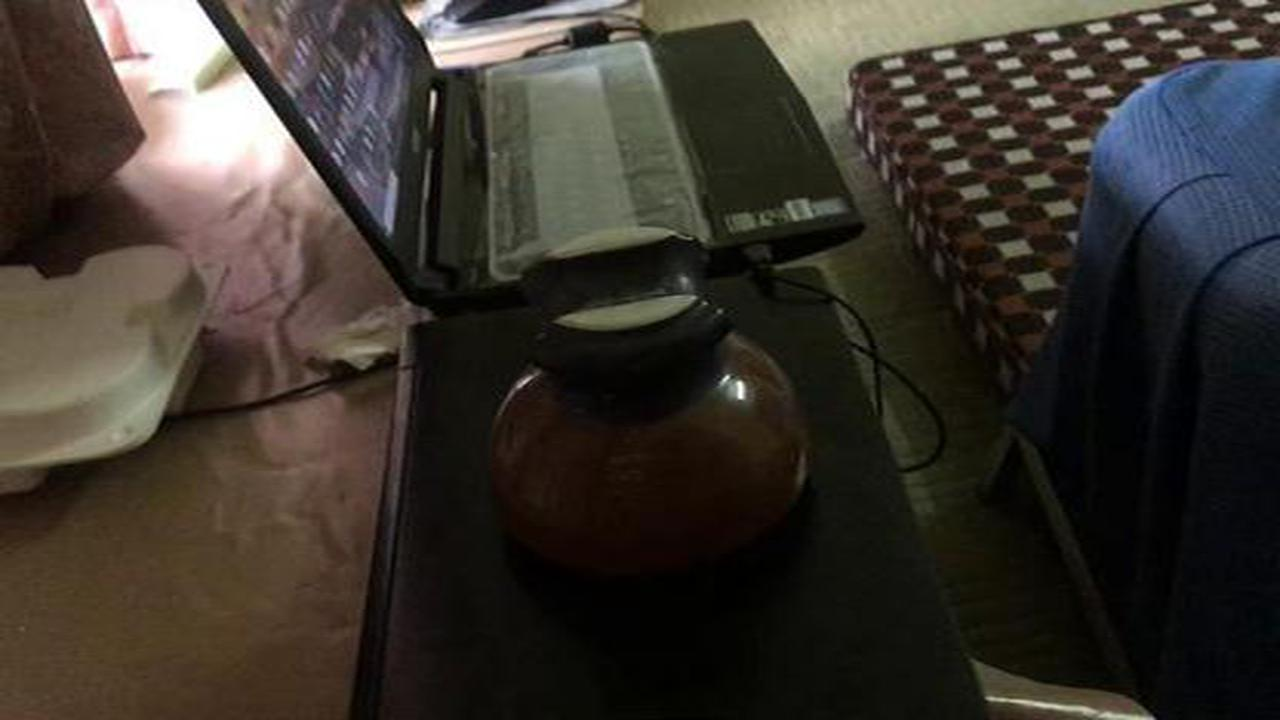insulator_pin: (459, 213, 825, 620)
